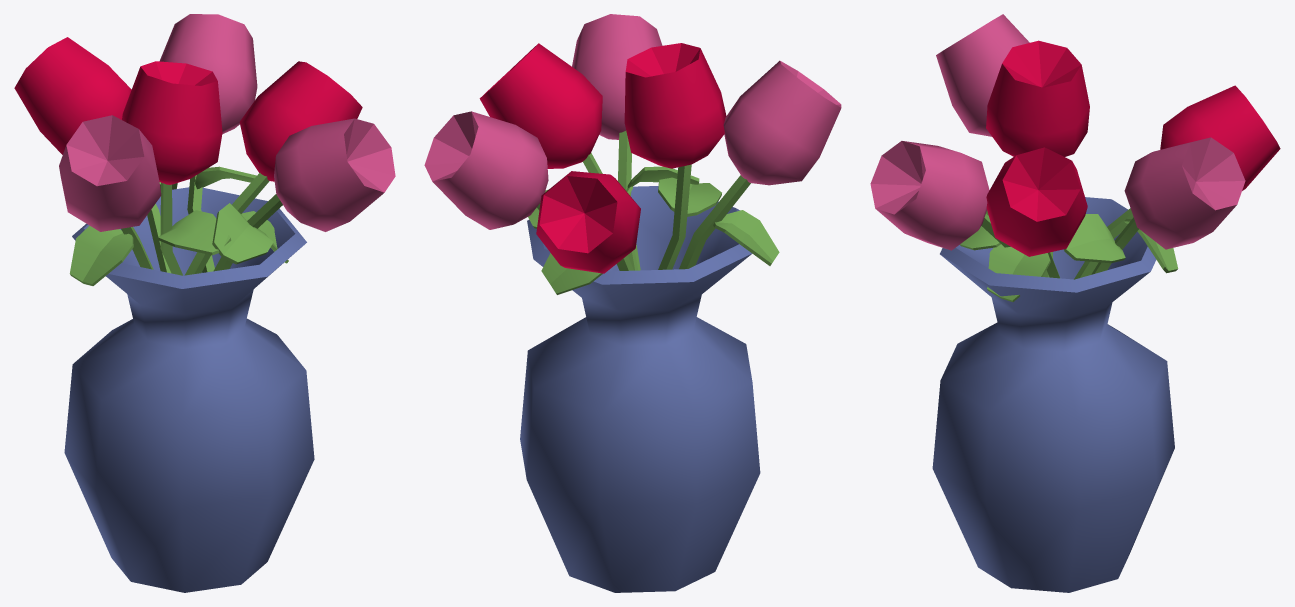
File: Flowers.fbx
3 views of the same model, side by side, from view 1: azimuth 30°, elevation 25°; view 2: azimuth 150°, elevation 25°; view 3: azimuth 270°, elevation 25° (orthographic). The views are drawn at different scales.
Visible parts, largest first — view 1: pCube686; view 2: pCube686; view 3: pCube686.
Boxes of the visible parts, box(x1,y1,x2,y2) form: pCube686: box(14, 14, 395, 592); pCube686: box(424, 14, 841, 592); pCube686: box(870, 14, 1280, 592).
Bounding box in the file's own units: 57.25 × 86.75 × 64.97.
